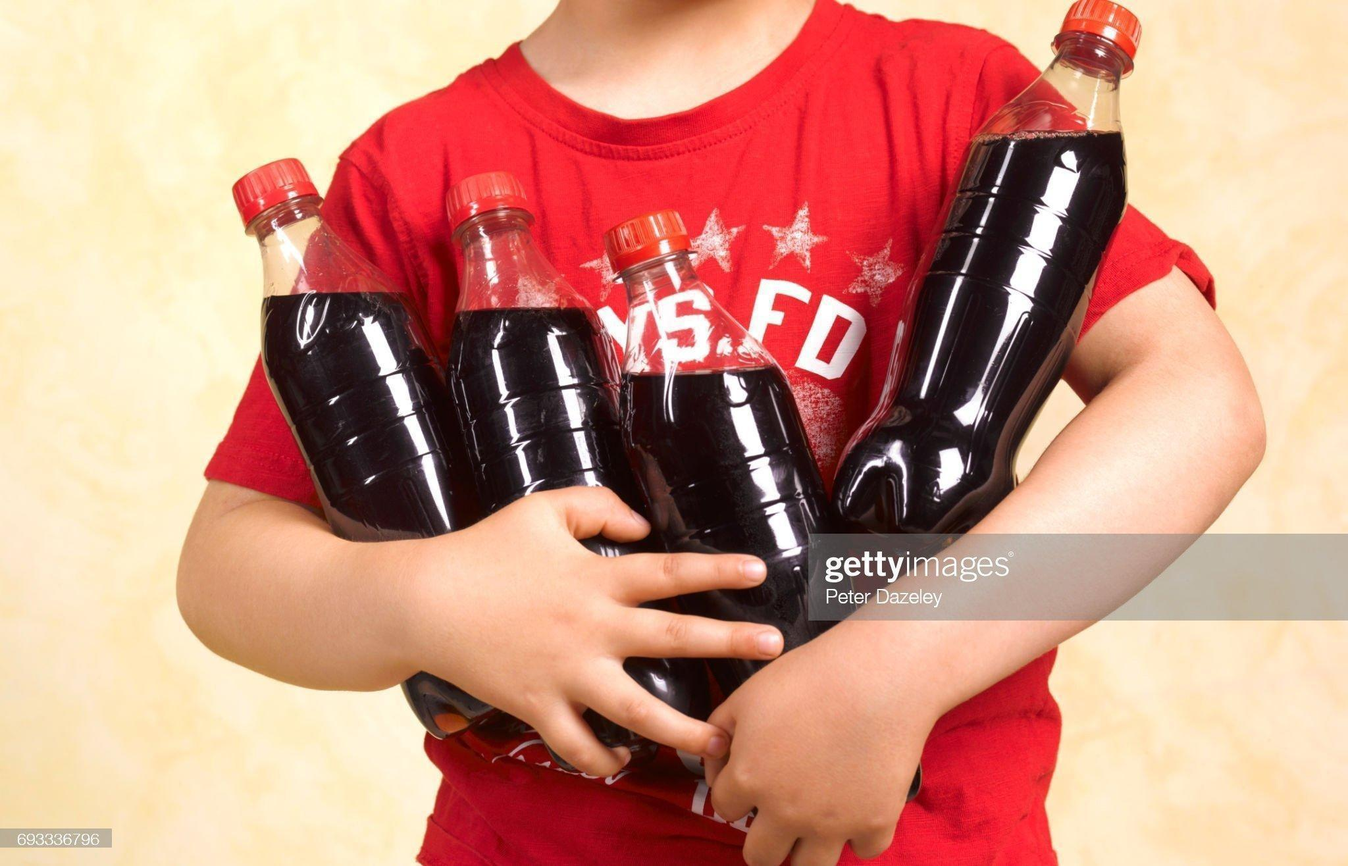bottle-plastic: (826, 0, 1147, 526), (222, 155, 496, 736), (600, 211, 842, 645), (439, 169, 629, 510)
